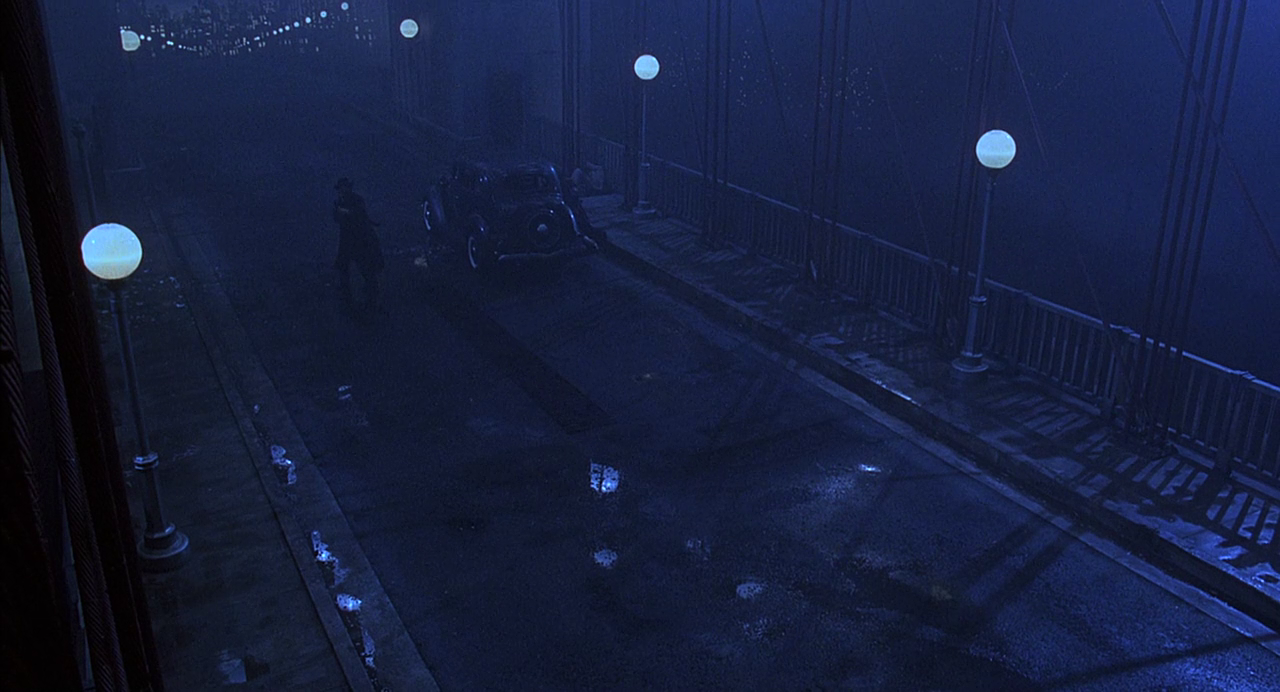car: (415, 143, 607, 278)
